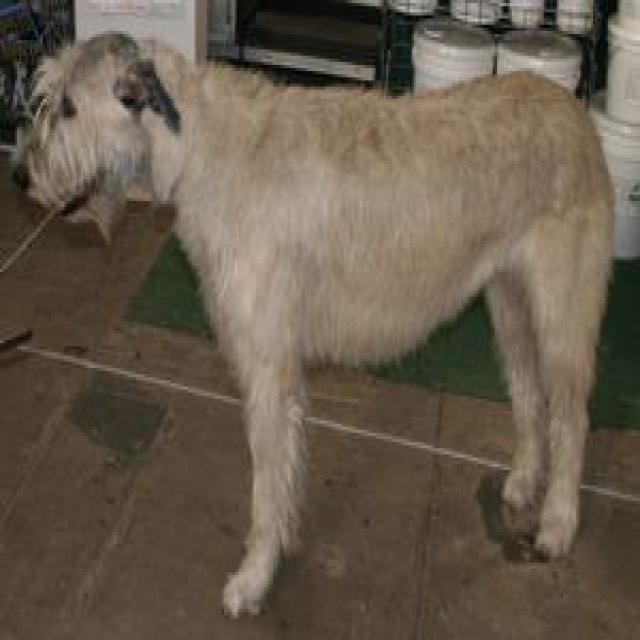irish_wolfhound: (23, 34, 614, 618)
